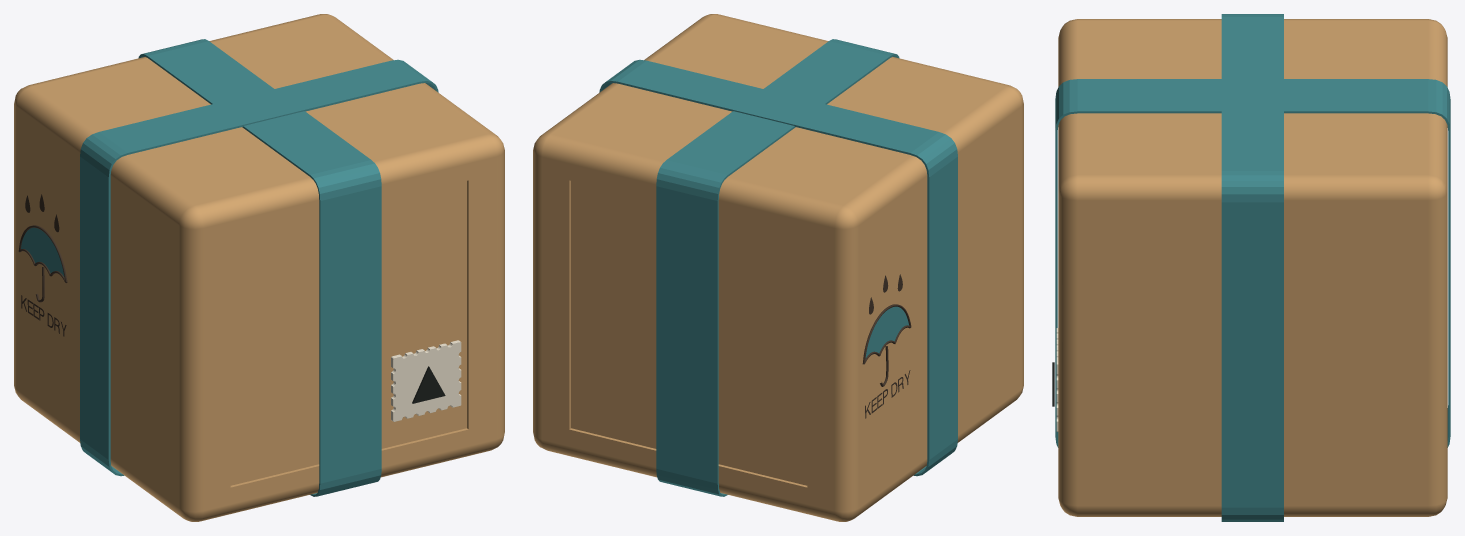
The model's file is play-parcel-small-teal.glb.
3 views of the same model, side by side, from view 1: azimuth 30°, elevation 25°; view 2: azimuth 150°, elevation 25°; view 3: azimuth 270°, elevation 25° (orthographic). The views are drawn at different scales.
Parts seen in each view (by area): view 1: Parcel_Carton, Parcel_Tape_Continuous_Front_Back, Parcel_Tape_Continuous_Left_Right, Parcel_Paper_Label, Parcel_Care_Umbrella_Canopy, Parcel_Label_Triangle; view 2: Parcel_Carton, Parcel_Tape_Continuous_Front_Back, Parcel_Tape_Continuous_Left_Right, Parcel_Care_Umbrella_Canopy; view 3: Parcel_Carton, Parcel_Tape_Continuous_Left_Right, Parcel_Tape_Continuous_Front_Back.
Boxes of the visible parts, x1,y1,x2,y2 form: Parcel_Carton: [14, 14, 504, 521]; Parcel_Tape_Continuous_Front_Back: [138, 39, 381, 496]; Parcel_Tape_Continuous_Left_Right: [80, 59, 438, 476]; Parcel_Paper_Label: [391, 340, 461, 421]; Parcel_Care_Umbrella_Canopy: [21, 227, 64, 276]; Parcel_Label_Triangle: [412, 366, 445, 403]; Parcel_Carton: [533, 14, 1023, 521]; Parcel_Tape_Continuous_Front_Back: [656, 39, 899, 496]; Parcel_Tape_Continuous_Left_Right: [599, 59, 957, 476]; Parcel_Care_Umbrella_Canopy: [865, 306, 909, 358]; Parcel_Carton: [1058, 19, 1447, 516]; Parcel_Tape_Continuous_Left_Right: [1221, 14, 1283, 521]; Parcel_Tape_Continuous_Front_Back: [1055, 79, 1450, 447].
Bounding box in the file's own units: 0.148 × 0.138 × 0.1431.
